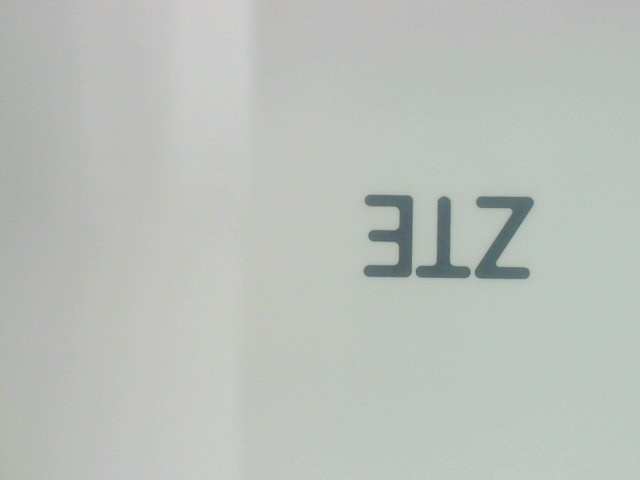AN_ZTELarge: (347, 180, 551, 283)
